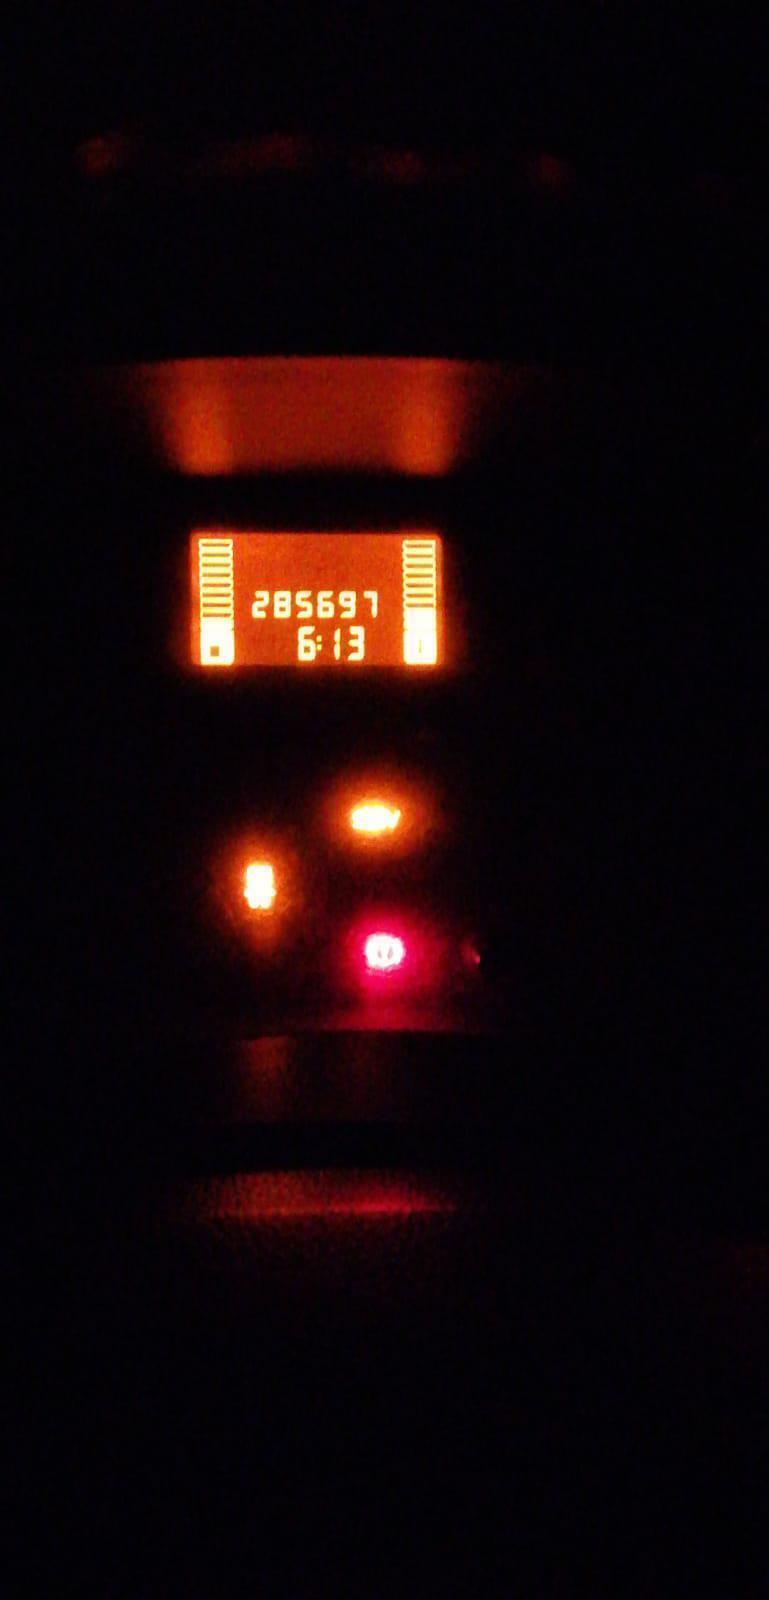1: (332, 627, 341, 661)
2: (250, 590, 269, 618)
3: (346, 624, 365, 662)
5: (294, 589, 313, 619)
6: (296, 624, 317, 662), (316, 590, 335, 619)
7: (362, 590, 378, 617)
8: (273, 590, 291, 618)
9: (337, 590, 356, 618)
X: (315, 634, 322, 651)
odometer: (186, 528, 446, 670)
